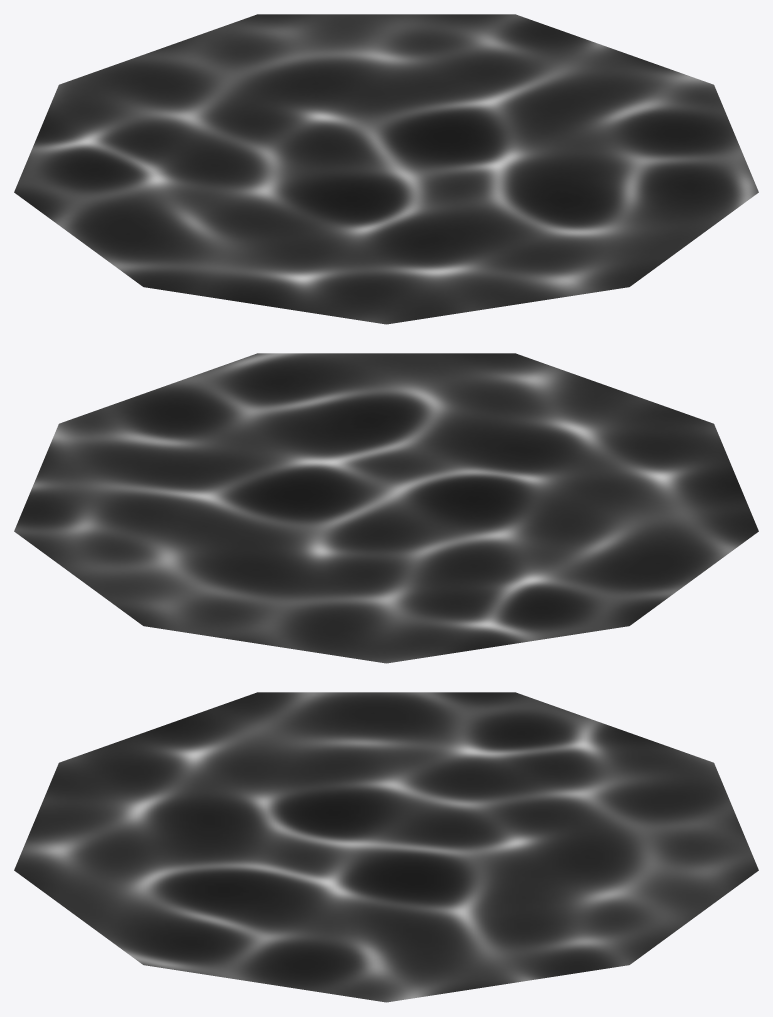
File: Water.FBX
The picture shows the model from 3 angles, top to bottom: view 1: azimuth 30°, elevation 25°; view 2: azimuth 150°, elevation 25°; view 3: azimuth 270°, elevation 25°; orthographic projection.
Visible parts, largest first — view 1: Cylinder001; view 2: Cylinder001; view 3: Cylinder001.
Part boxes in pixels (x1,y1,x2,y2): Cylinder001: [14, 14, 758, 324]; Cylinder001: [14, 353, 758, 663]; Cylinder001: [14, 692, 758, 1002].
Bounding box in the file's own units: 8.52 × 5.3e-16 × 8.65.
Materials: 1 (1 with a texture image).
